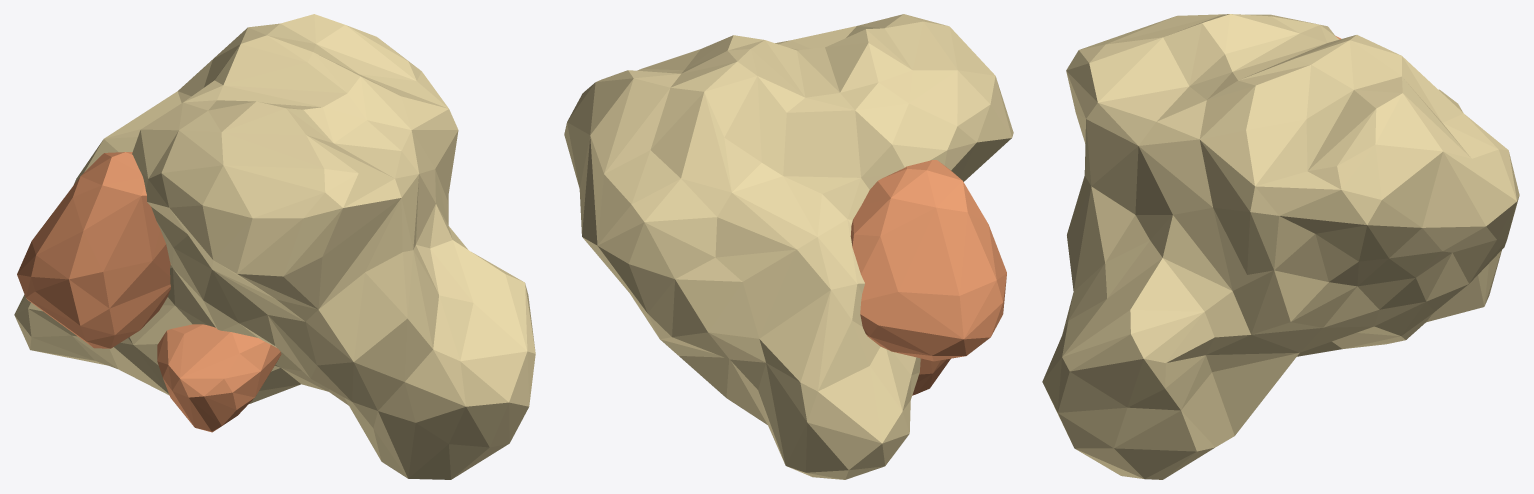
Rendered from StoneOre (54).fbx.
The picture shows the model from 3 angles, left to right: view 1: azimuth 30°, elevation 25°; view 2: azimuth 150°, elevation 25°; view 3: azimuth 270°, elevation 25°; orthographic projection. The views are drawn at different scales.
Parts seen in each view (by area): view 1: Asteroid341; view 2: Asteroid341; view 3: Asteroid341.
Part boxes in pixels (left/top/right/bottom): Asteroid341: left=14, top=14, right=535, bottom=479; Asteroid341: left=564, top=14, right=1013, bottom=479; Asteroid341: left=1042, top=14, right=1519, bottom=479.
Size of the model in its own units: 284 by 255 by 277.
